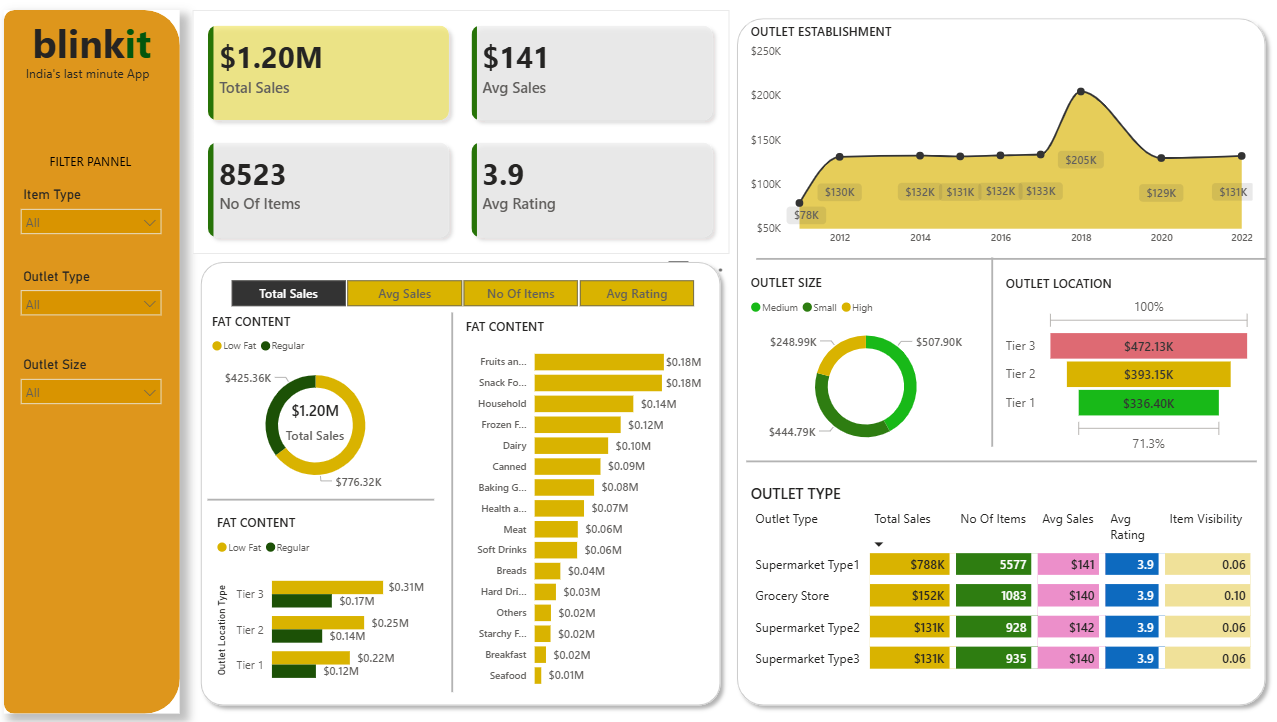

The page's visual inventory and layout, read from the dashboard file:
{"tool":"powerbi","page":{"name":"Page 1","canvas":[1400,800],"ordinal":0},"visuals":[{"type":"shape","box":[9.5,16.3,191.6,764.9],"z":0},{"type":"textbox","box":[9.5,17.7,191.6,67.9],"z":1000},{"type":"textbox","box":[28.5,70.7,154.9,31.3],"z":2000},{"type":"cardVisual","fields":{"Data":["BlinkIT Grocery Data.Total Sales","BlinkIT Grocery Data.Avg Sales","BlinkIT Grocery Data.No Of Items","BlinkIT Grocery Data.Avg Rating"]},"box":[214.7,16.3,582.9,264.9],"z":3000},{"type":"shape","box":[214.7,281.3,582.9,500],"z":4000},{"type":"donutChart","title":"FAT CONTENT","fields":{"Y":["BlinkIT Grocery Data.Total Sales"],"Category":["BlinkIT Grocery Data.Item Fat Content"]},"box":[231,345.1,235.1,199.7],"z":5000},{"type":"slicer","fields":{"Values":["Metrics.Metrics"]},"box":[231,303,553,42.1],"z":6000},{"type":"clusteredBarChart","title":"FAT CONTENT","fields":{"Y":["BlinkIT Grocery Data.Total Sales"],"Category":["BlinkIT Grocery Data.Outlet Location Type"],"Series":["BlinkIT Grocery Data.Item Fat Content"]},"box":[236.6,563.4,235.2,200],"z":7000},{"type":"clusteredBarChart","title":"FAT CONTENT","fields":{"Y":["BlinkIT Grocery Data.Total Sales"],"Category":["BlinkIT Grocery Data.Item Type"]},"box":[507,350.7,266.2,412.7],"z":8000},{"type":"shape","box":[231,539.4,246.5,18.3],"z":9000},{"type":"shape","box":[485.9,345.1,21.1,412.7],"z":10000},{"type":"card","fields":{"Values":["BlinkIT Grocery Data.Total Sales"]},"box":[285.9,435.2,125.4,56.3],"z":11000},{"type":"shape","box":[797.6,16.3,592.4,764.9],"z":12000},{"type":"stackedAreaChart","title":"OUTLET ESTABLISHMENT","fields":{"Category":["BlinkIT Grocery Data.Outlet Establishment Year"],"Y":["BlinkIT Grocery Data.Total Sales"]},"box":[816.6,29.9,555.7,251.4],"z":13000},{"type":"donutChart","title":"OUTLET SIZE","fields":{"Y":["BlinkIT Grocery Data.Total Sales"],"Category":["BlinkIT Grocery Data.Outlet Size"]},"box":[816.9,302.8,260.6,200],"z":14000},{"type":"funnel","title":"OUTLET LOCATION","fields":{"Category":["BlinkIT Grocery Data.Outlet Location Type"],"Y":["BlinkIT Grocery Data.Total Sales"]},"box":[1094.4,304.2,277.5,198.6],"z":15000},{"type":"pivotTable","title":"OUTLET TYPE","fields":{"Rows":["BlinkIT Grocery Data.Outlet Type"],"Values":["BlinkIT Grocery Data.Total Sales","BlinkIT Grocery Data.No Of Items","BlinkIT Grocery Data.Avg Sales","BlinkIT Grocery Data.Avg Rating","Avg(BlinkIT Grocery Data.Item Visibility)"]},"box":[816.9,529.6,554.9,233.8],"z":16000},{"type":"shape","box":[816.9,502.8,554.9,8.5],"z":17000},{"type":"shape","box":[1073.2,285.9,21.1,205.6],"z":18000},{"type":"shape","box":[826.9,283.2,554.9,8.5],"z":19000},{"type":"slicer","fields":{"Values":["BlinkIT Grocery Data.Item Type"]},"box":[18.3,204.2,173.2,83.1],"z":20000},{"type":"slicer","fields":{"Values":["BlinkIT Grocery Data.Outlet Type"]},"box":[18.3,291.5,173.2,83.1],"z":21000},{"type":"slicer","fields":{"Values":["BlinkIT Grocery Data.Outlet Size"]},"box":[18.3,388.7,173.2,83.1],"z":22000},{"type":"textbox","box":[54.3,167.1,129.1,36.7],"z":23000}]}

Visuals, with their boxes in screenshot pixels (x1, y1, x2, y2), scaled from the page's 1400x800 canvas onto the 1277x722 screenshot:
shape: x1=9 y1=15 x2=183 y2=705
textbox: x1=9 y1=16 x2=183 y2=77
textbox: x1=26 y1=64 x2=167 y2=92
cardVisual - BlinkIT Grocery Data.Total Sales x BlinkIT Grocery Data.Avg Sales: x1=196 y1=15 x2=728 y2=254
shape: x1=196 y1=254 x2=728 y2=705
"FAT CONTENT" donutChart: x1=211 y1=311 x2=425 y2=492
slicer - Metrics.Metrics: x1=211 y1=273 x2=715 y2=311
"FAT CONTENT" clusteredBarChart: x1=216 y1=508 x2=430 y2=689
"FAT CONTENT" clusteredBarChart: x1=462 y1=317 x2=705 y2=689
shape: x1=211 y1=487 x2=436 y2=503
shape: x1=443 y1=311 x2=462 y2=684
card - BlinkIT Grocery Data.Total Sales: x1=261 y1=393 x2=375 y2=444
shape: x1=728 y1=15 x2=1268 y2=705
"OUTLET ESTABLISHMENT" stackedAreaChart: x1=745 y1=27 x2=1252 y2=254
"OUTLET SIZE" donutChart: x1=745 y1=273 x2=983 y2=454
"OUTLET LOCATION" funnel: x1=998 y1=275 x2=1251 y2=454
"OUTLET TYPE" pivotTable: x1=745 y1=478 x2=1251 y2=689
shape: x1=745 y1=454 x2=1251 y2=461
shape: x1=979 y1=258 x2=998 y2=444
shape: x1=754 y1=256 x2=1260 y2=263
slicer - BlinkIT Grocery Data.Item Type: x1=17 y1=184 x2=175 y2=259
slicer - BlinkIT Grocery Data.Outlet Type: x1=17 y1=263 x2=175 y2=338
slicer - BlinkIT Grocery Data.Outlet Size: x1=17 y1=351 x2=175 y2=426
textbox: x1=50 y1=151 x2=167 y2=184
